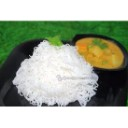idiyappam: (17, 37, 94, 106)
